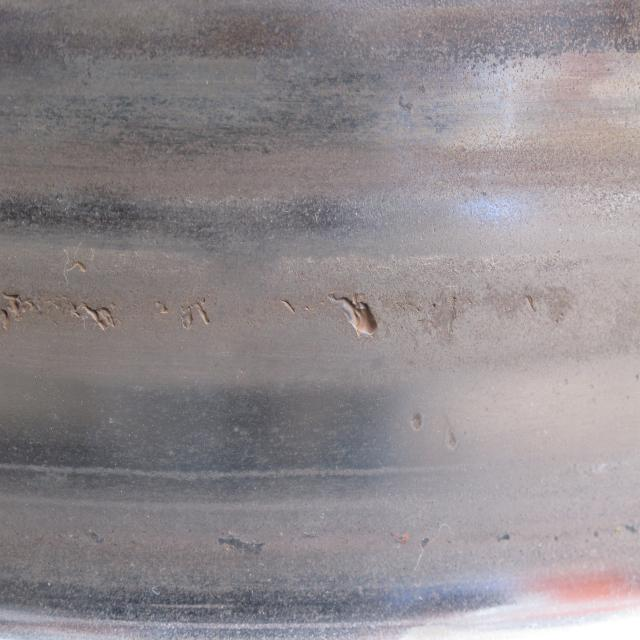Blue hole: (327, 289, 381, 338)
Peeling: (2, 285, 218, 337), (444, 430, 462, 454), (70, 259, 88, 277), (525, 292, 540, 313), (410, 411, 425, 430), (283, 298, 297, 317)
